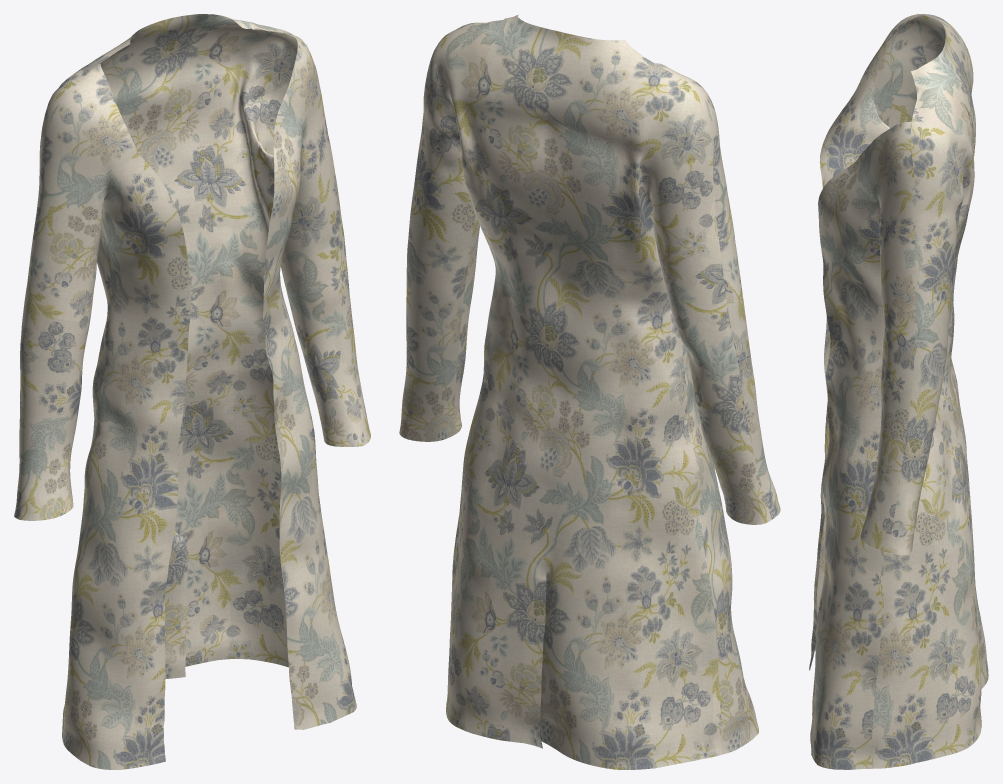
Rendered from medium.glb.
The picture shows the model from 3 angles, left to right: view 1: azimuth 30°, elevation 25°; view 2: azimuth 150°, elevation 25°; view 3: azimuth 270°, elevation 25°; orthographic projection. The views are drawn at different scales.
Visible parts, largest first — view 1: MediumInner_with vents; view 2: MediumInner_with vents; view 3: MediumInner_with vents.
Boxes of the visible parts, x1,y1,x2,y2 form: MediumInner_with vents: (14, 14, 370, 769); MediumInner_with vents: (399, 15, 780, 769); MediumInner_with vents: (809, 14, 988, 769).
Bounding box in the file's own units: 54.1 × 98.98 × 23.86.
Materials: 1 (1 with a texture image).
